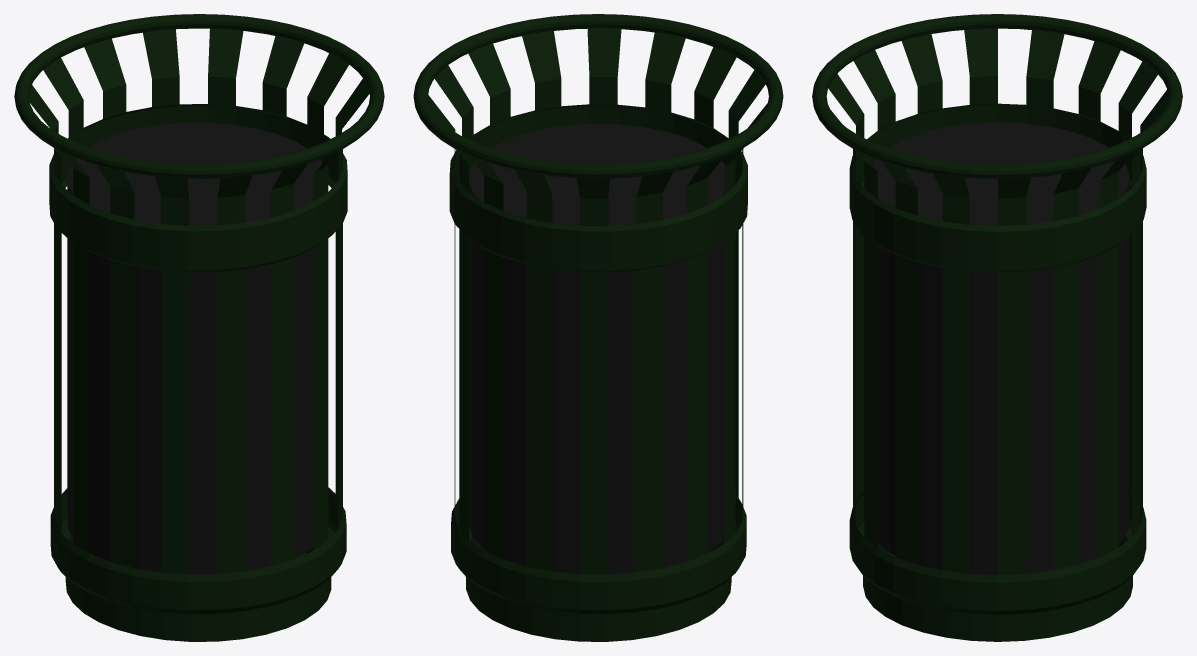
Rendered from skraldespand.fbx.
3 views of the same model, side by side, from view 1: azimuth 30°, elevation 25°; view 2: azimuth 150°, elevation 25°; view 3: azimuth 270°, elevation 25° (orthographic).
Parts seen in each view (by area): view 1: Cylinder, Cylinder.001, Torus; view 2: Cylinder, Cylinder.001, Torus; view 3: Cylinder, Cylinder.001, Torus.
Part boxes in pixels (x1,y1,x2,y2): Cylinder: (29, 28, 369, 641); Cylinder.001: (67, 122, 322, 574); Torus: (14, 14, 384, 178); Cylinder: (428, 28, 767, 641); Cylinder.001: (469, 123, 725, 574); Torus: (413, 14, 783, 178); Cylinder: (828, 28, 1168, 641); Cylinder.001: (872, 122, 1129, 574); Torus: (812, 14, 1182, 178).
Bounding box in the file's own units: 262 × 387 × 262.
